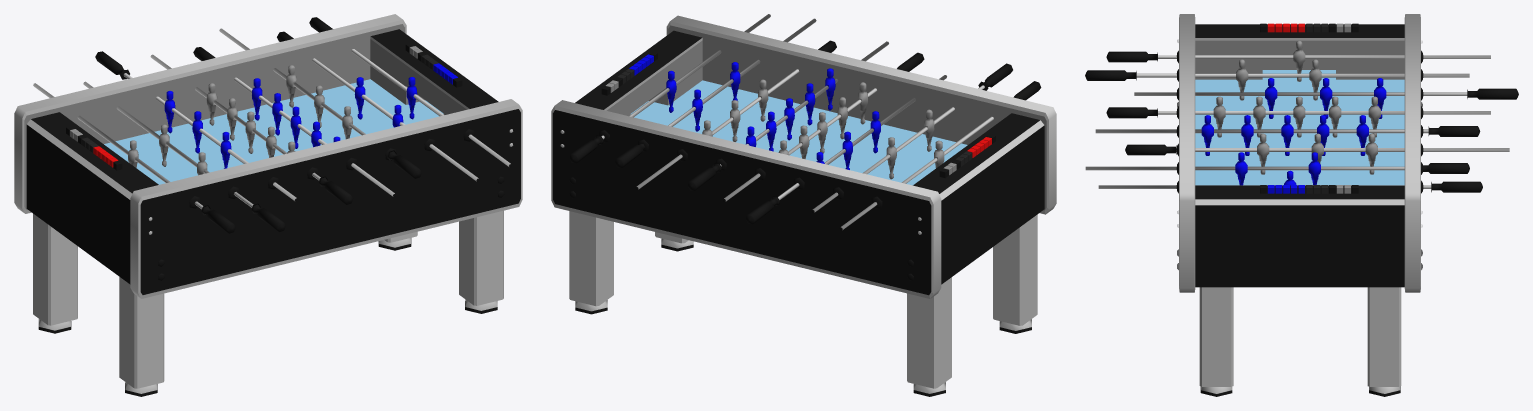
The model's file is futbolin.FBX.
3 renders of one model, left to right at view 1: azimuth 30°, elevation 25°; view 2: azimuth 150°, elevation 25°; view 3: azimuth 270°, elevation 25°, orthographic. The views are drawn at different scales.
Visible parts, largest first — view 1: futbolin; view 2: futbolin; view 3: futbolin.
Boxes of the visible parts, <box> form: futbolin: <box>14,14,522,396</box>; futbolin: <box>551,14,1056,396</box>; futbolin: <box>1085,14,1518,396</box>.
Size of the model in its own units: 192 by 101 by 193.
